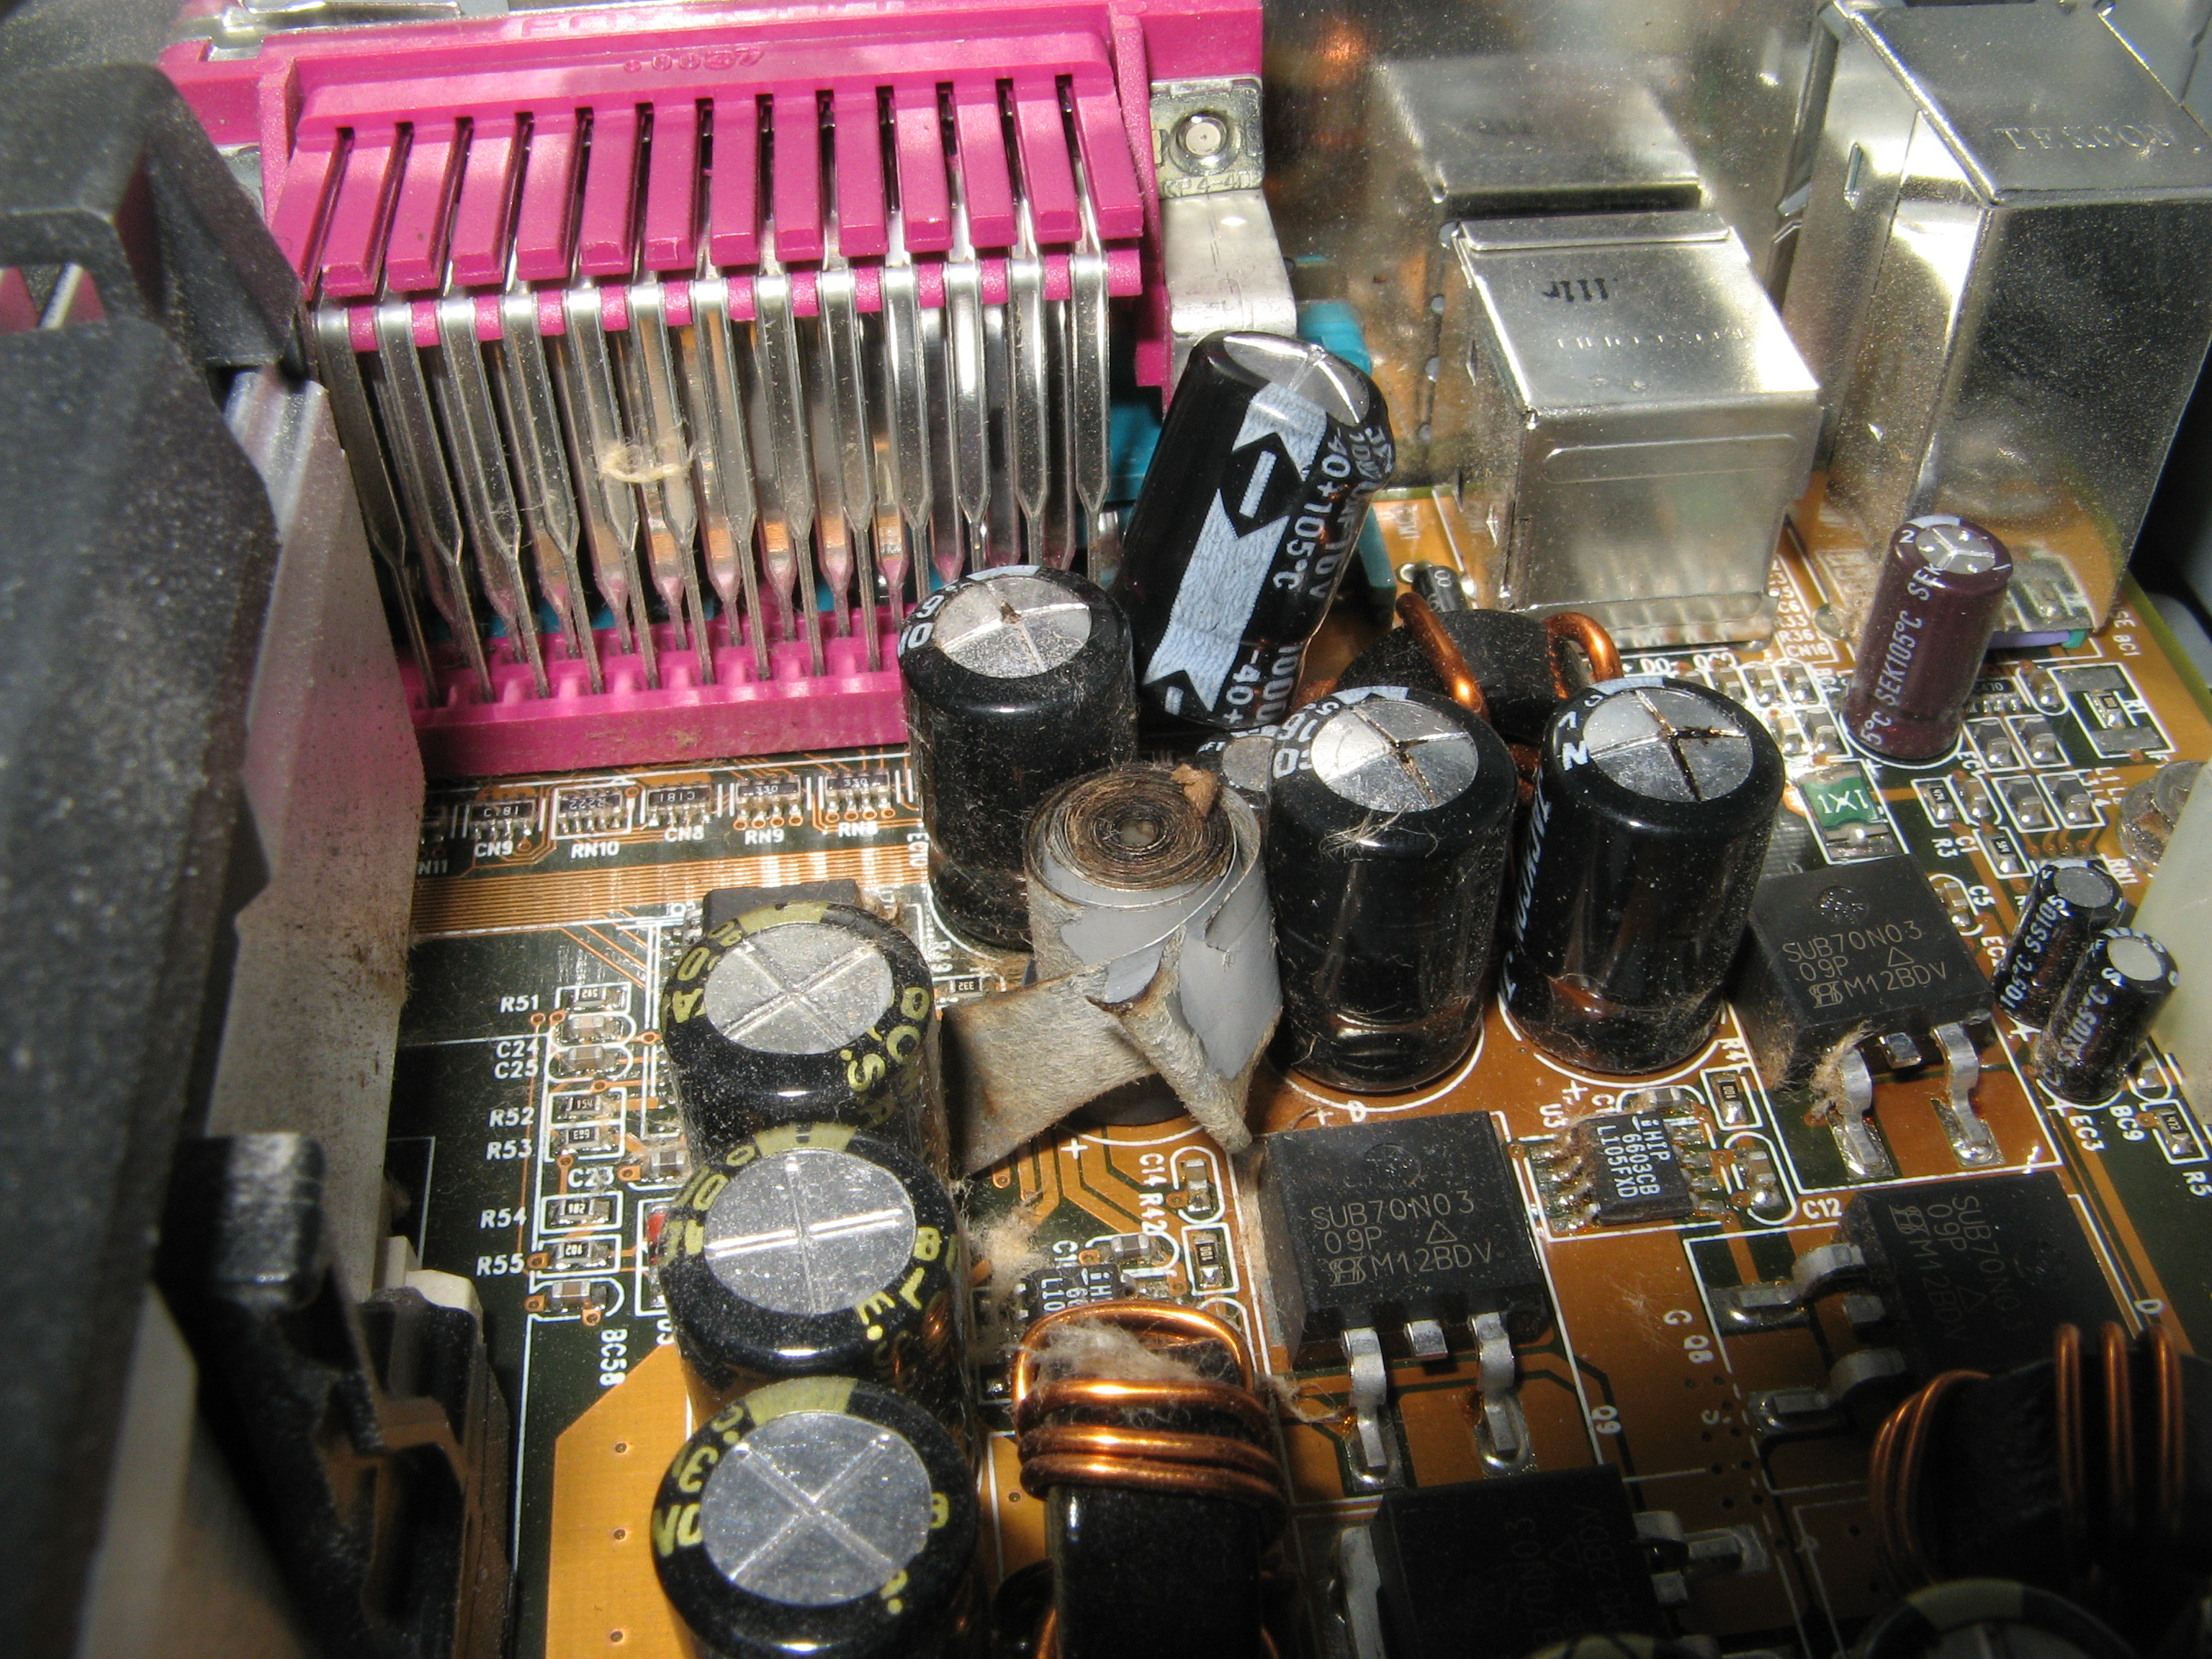capacitor: (1258, 657, 1545, 1082), (1519, 660, 1785, 1070), (878, 551, 1167, 880), (1843, 491, 2043, 824), (1144, 308, 1400, 568), (681, 1398, 965, 1628), (658, 896, 928, 1110), (698, 1159, 928, 1338)
